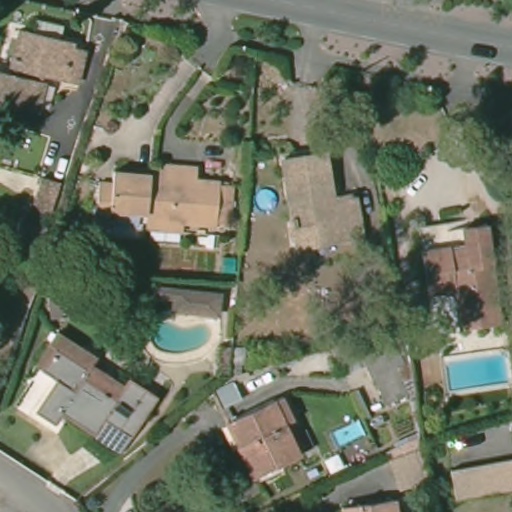pool: (440, 347, 512, 383), (148, 318, 216, 355), (326, 419, 366, 448), (255, 184, 281, 214)
